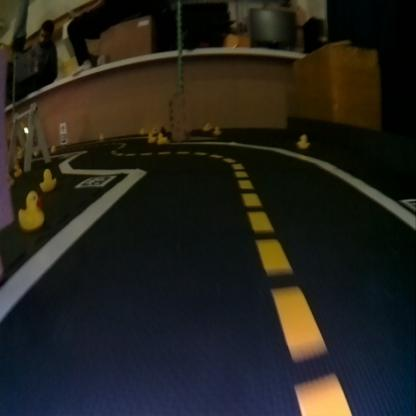Duckie: (19, 190, 43, 229), (39, 168, 56, 191), (297, 134, 309, 148), (157, 133, 167, 143), (14, 166, 20, 175), (148, 133, 154, 141), (214, 126, 220, 134), (203, 122, 209, 130), (50, 144, 55, 152)
QR code: (76, 175, 112, 186)
